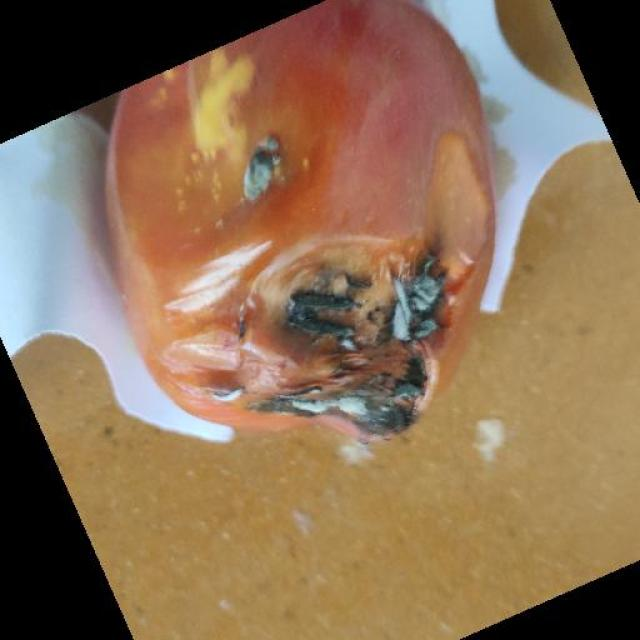Stale_tomato: (123, 3, 486, 441)
